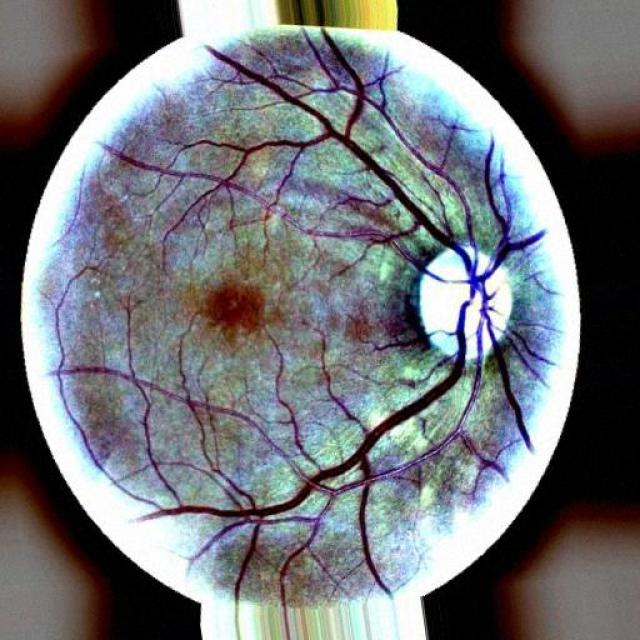Macula: (199, 281, 264, 341)
Nerves: (144, 29, 549, 600)
Optic Disk: (412, 245, 512, 359)
